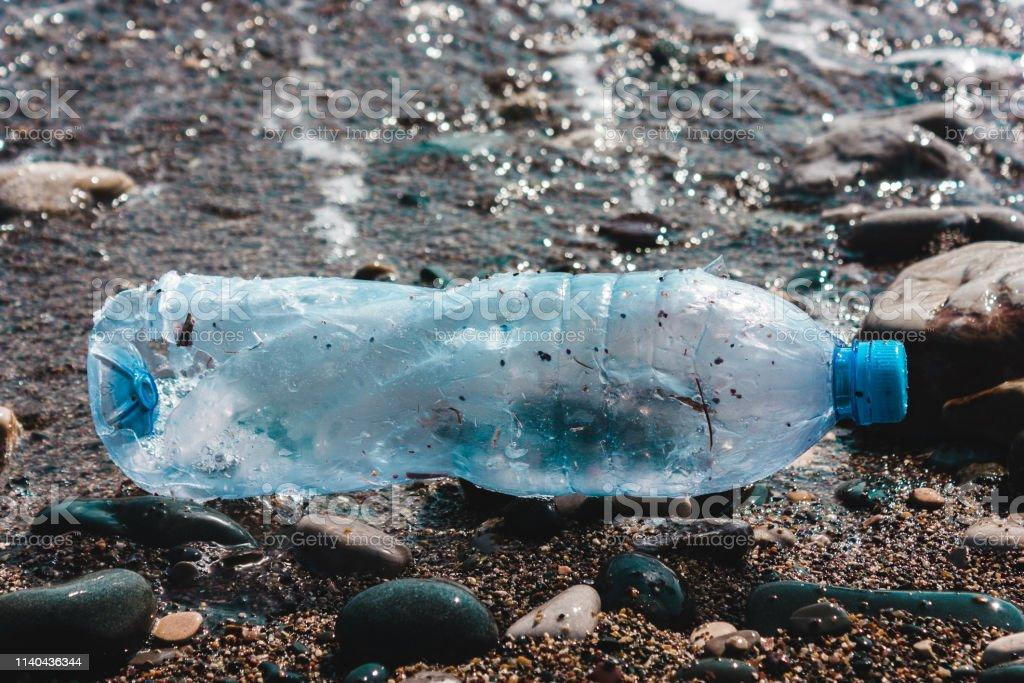Plastic: (86, 263, 914, 495)
